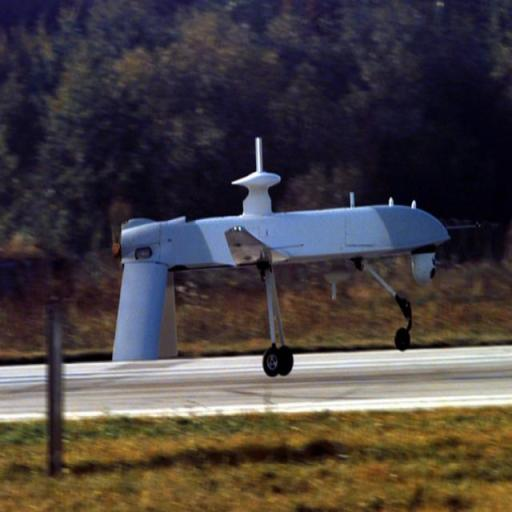uav: (90, 130, 488, 391)
